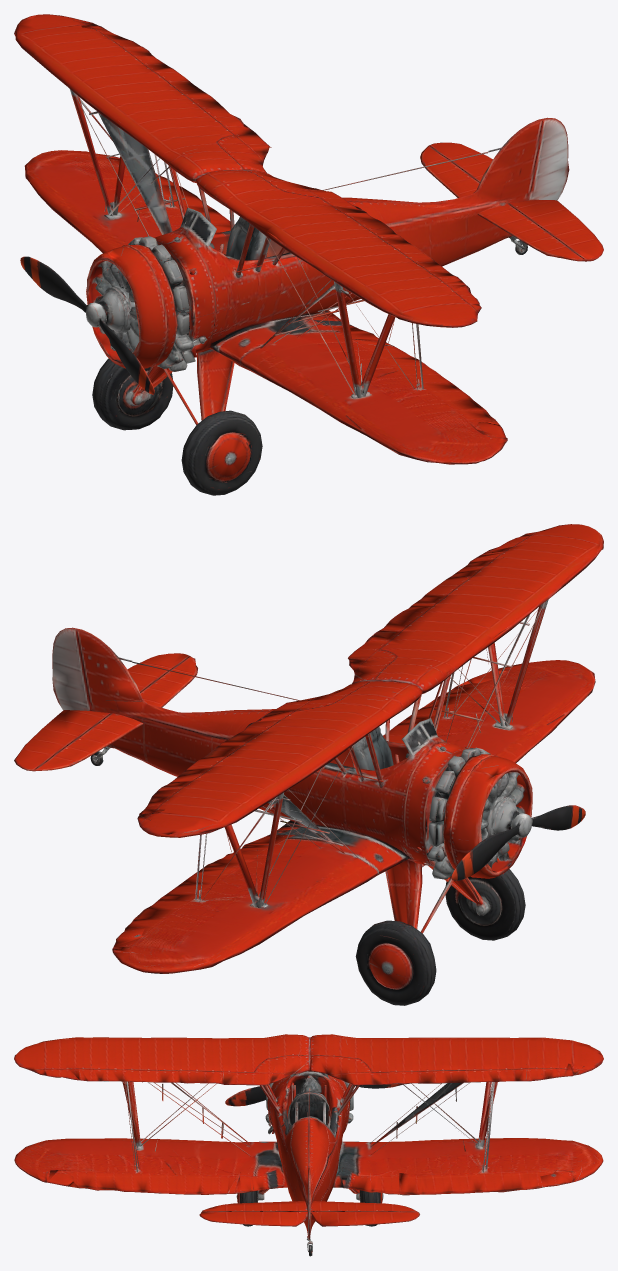
The model's file is Meshy_AI_Crimson_Skywing_20261109_texture.fbx.
3 renders of one model, top to bottom at view 1: azimuth 30°, elevation 25°; view 2: azimuth 150°, elevation 25°; view 3: azimuth 270°, elevation 25°, orthographic. The views are drawn at different scales.
Visible parts, largest first — view 1: Mesh_0; view 2: Mesh_0; view 3: Mesh_0.
Boxes of the visible parts, x1,y1,x2,y2 form: Mesh_0: (14,14,603,495); Mesh_0: (14,524,603,1005); Mesh_0: (14,1034,603,1256).
Bounding box in the file's own units: 61.77 × 35.01 × 94.87.
1 material, 1 textured.
